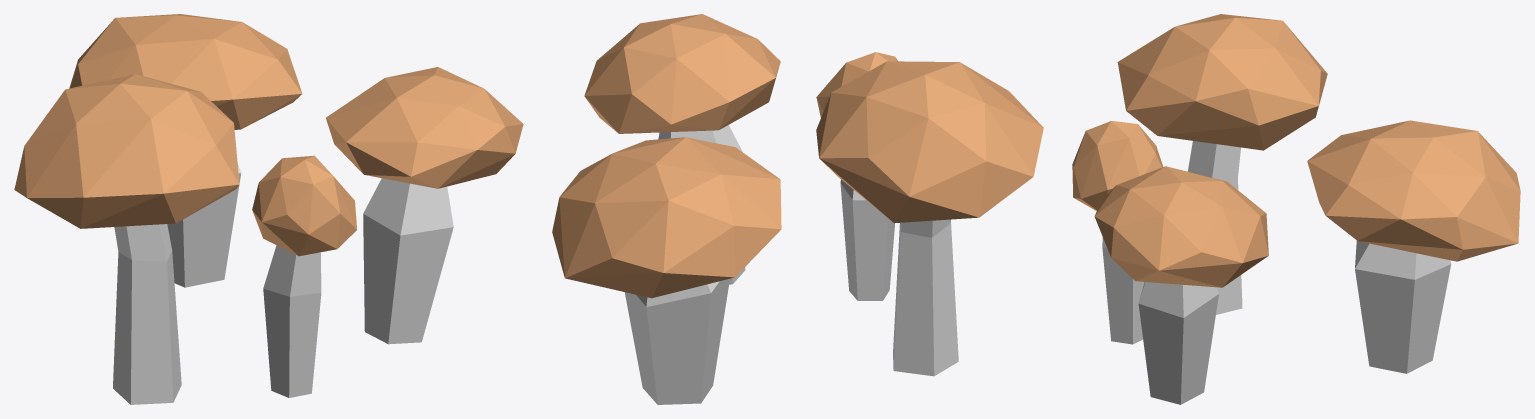
The model's file is ShroomsPatch.fbx.
The picture shows the model from 3 angles, left to right: view 1: azimuth 30°, elevation 25°; view 2: azimuth 150°, elevation 25°; view 3: azimuth 270°, elevation 25°; orthographic projection. The views are drawn at different scales.
Parts seen in each view (by area): view 1: ShroomGroup, ShroomGroup.001; view 2: ShroomGroup, ShroomGroup.001; view 3: ShroomGroup, ShroomGroup.001.
Part boxes in pixels (left/top/right/bottom): ShroomGroup: left=14, top=14, right=523, bottom=256; ShroomGroup.001: left=113, top=164, right=453, bottom=404; ShroomGroup: left=552, top=14, right=1043, bottom=298; ShroomGroup.001: left=624, top=125, right=958, bottom=404; ShroomGroup: left=1072, top=14, right=1520, bottom=287; ShroomGroup.001: left=1102, top=141, right=1451, bottom=404.
Bounding box in the file's own units: 0.5415 × 0.3375 × 0.493.
